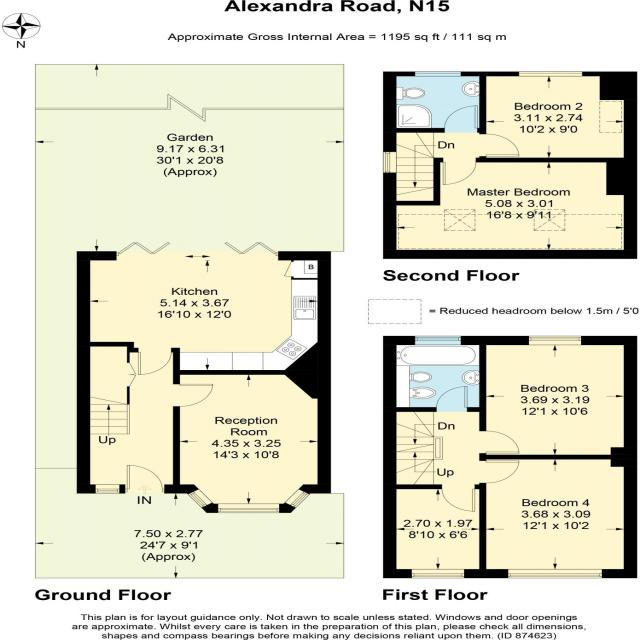DOOR: (123, 463, 167, 493), (478, 459, 521, 485), (172, 382, 215, 408), (135, 347, 173, 376), (441, 105, 480, 133), (478, 133, 521, 158), (479, 430, 521, 455), (440, 484, 477, 512), (441, 158, 478, 185), (435, 385, 469, 412)
FOLDING DOOR: (221, 239, 285, 259), (113, 240, 174, 257)
ROOM: (76, 240, 332, 376), (383, 158, 638, 259), (173, 370, 331, 514), (478, 454, 638, 578), (479, 335, 637, 460), (479, 71, 638, 163)
WINDOW: (506, 568, 604, 579), (216, 502, 281, 514), (282, 486, 312, 510), (185, 487, 215, 510), (527, 335, 583, 346), (410, 569, 466, 579), (414, 335, 462, 346), (518, 71, 583, 77), (382, 151, 397, 173), (93, 483, 121, 494), (414, 71, 462, 77)
